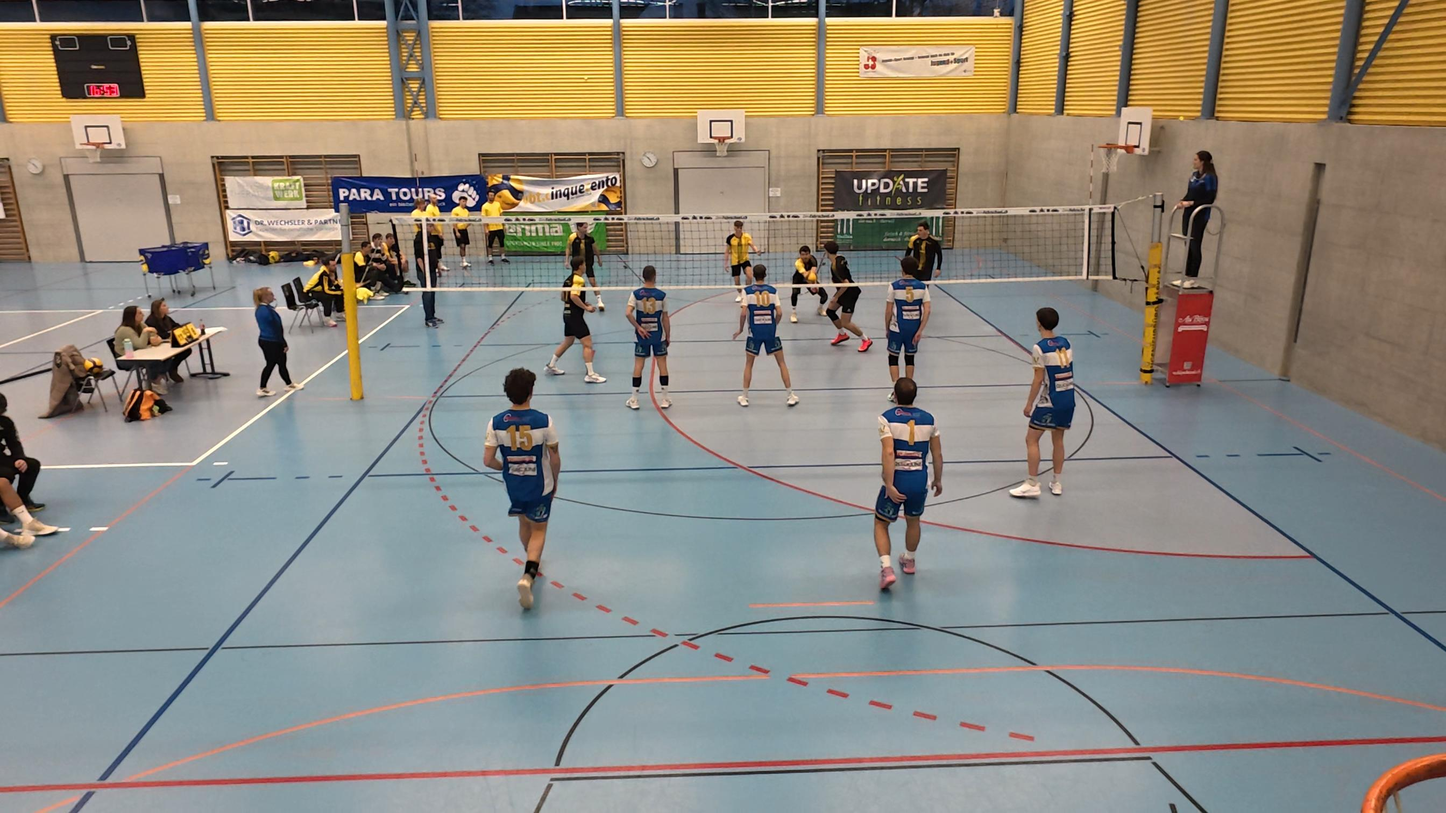Player: (485, 368, 562, 611), (873, 374, 943, 590), (1013, 307, 1079, 498), (734, 267, 801, 407), (623, 265, 673, 411), (881, 265, 934, 400), (548, 262, 602, 383), (823, 245, 869, 352), (903, 220, 945, 294), (565, 218, 598, 289), (723, 220, 755, 291)
Receive: (785, 241, 825, 322)
ball: (802, 262, 819, 296)
